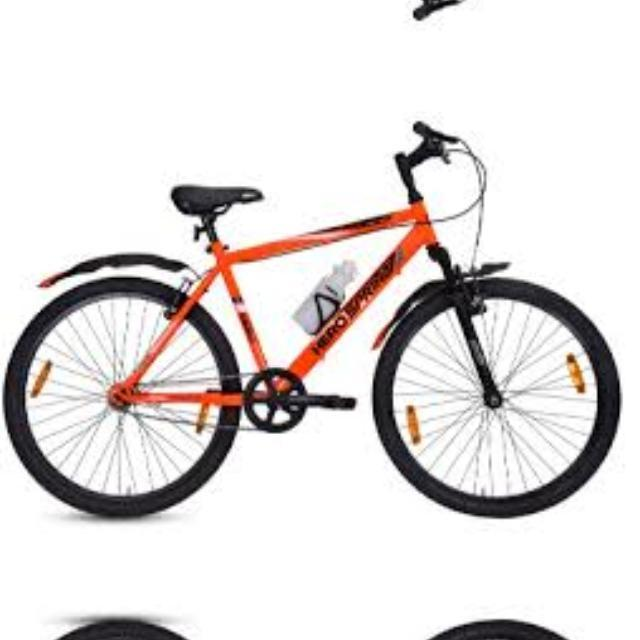obstacle: (5, 109, 637, 524), (5, 0, 637, 31), (5, 614, 637, 640)
